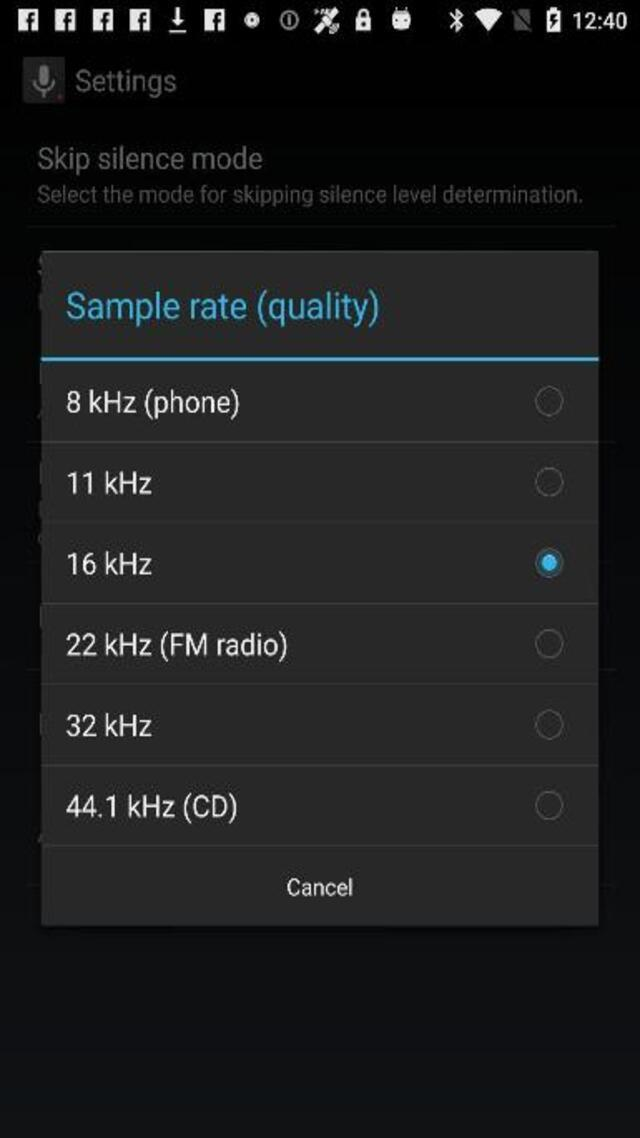CheckedTextView: (66, 791, 562, 824), (65, 630, 562, 662), (66, 388, 562, 420), (66, 548, 562, 576), (66, 710, 562, 738), (69, 468, 563, 496)
Icon: (22, 57, 64, 103)
Text: (37, 185, 581, 206), (68, 290, 378, 326), (66, 630, 286, 660), (38, 146, 262, 174), (68, 388, 238, 419), (66, 792, 236, 822), (76, 70, 176, 97), (67, 552, 152, 575), (67, 714, 152, 737), (282, 876, 357, 900), (68, 472, 151, 492)
TextButton: (40, 844, 598, 923)
